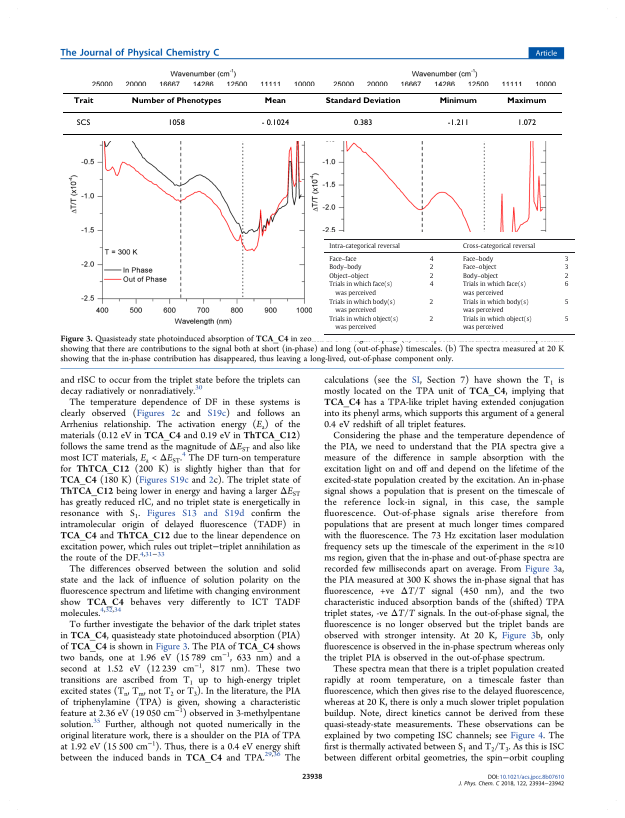borderless: (323, 237, 575, 334), (62, 91, 562, 134)
cell: (328, 315, 399, 332), (462, 315, 533, 332), (328, 297, 396, 314), (462, 297, 530, 314), (328, 280, 393, 297), (462, 280, 527, 297), (130, 96, 222, 105), (324, 96, 401, 105), (462, 242, 536, 250), (328, 242, 401, 250), (506, 96, 547, 105), (438, 96, 477, 105), (328, 272, 370, 280), (328, 263, 363, 272), (462, 263, 497, 272), (462, 272, 499, 280), (462, 255, 494, 263), (260, 118, 290, 126), (328, 255, 358, 263), (263, 96, 286, 105), (72, 96, 94, 105), (446, 118, 469, 126), (516, 118, 537, 126), (353, 118, 373, 126), (167, 118, 185, 126), (75, 118, 91, 126), (564, 263, 570, 272), (564, 280, 570, 289), (564, 297, 570, 306), (564, 255, 570, 263), (564, 272, 570, 280), (564, 315, 570, 323), (429, 263, 434, 272), (429, 280, 434, 289), (429, 297, 434, 306), (429, 255, 434, 263), (429, 272, 434, 280), (429, 315, 434, 323)
